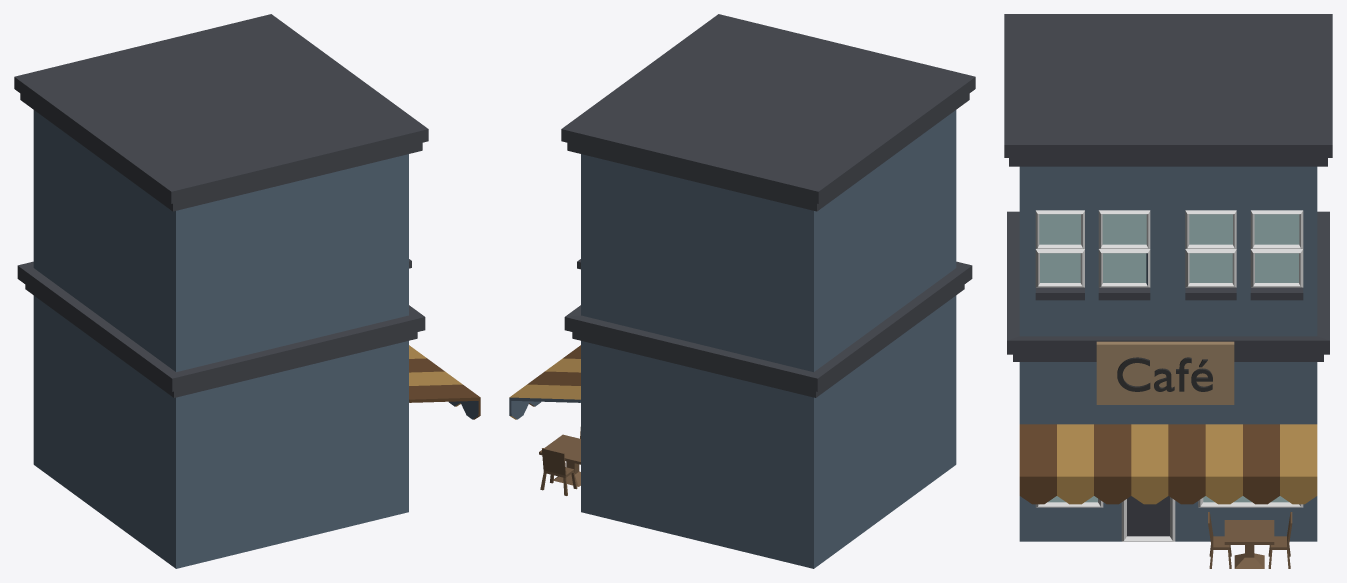
File: Cafe.fbx
3 renders of one model, left to right at view 1: azimuth 30°, elevation 25°; view 2: azimuth 150°, elevation 25°; view 3: azimuth 270°, elevation 25°, orthographic. The views are drawn at different scales.
Visible parts, largest first — view 1: Cube; view 2: Cube, Plane; view 3: Cube, Cube.001, Plane, Text.
Part boxes in pixels (bbox=[...]): Cube: bbox=[14, 14, 480, 568]; Cube: bbox=[509, 14, 975, 568]; Plane: bbox=[539, 427, 580, 495]; Cube: bbox=[1004, 14, 1332, 541]; Cube.001: bbox=[1096, 341, 1234, 404]; Plane: bbox=[1208, 512, 1292, 568]; Text: bbox=[1117, 357, 1212, 391].
Size of the model in its own units: 367 by 427 by 316.
